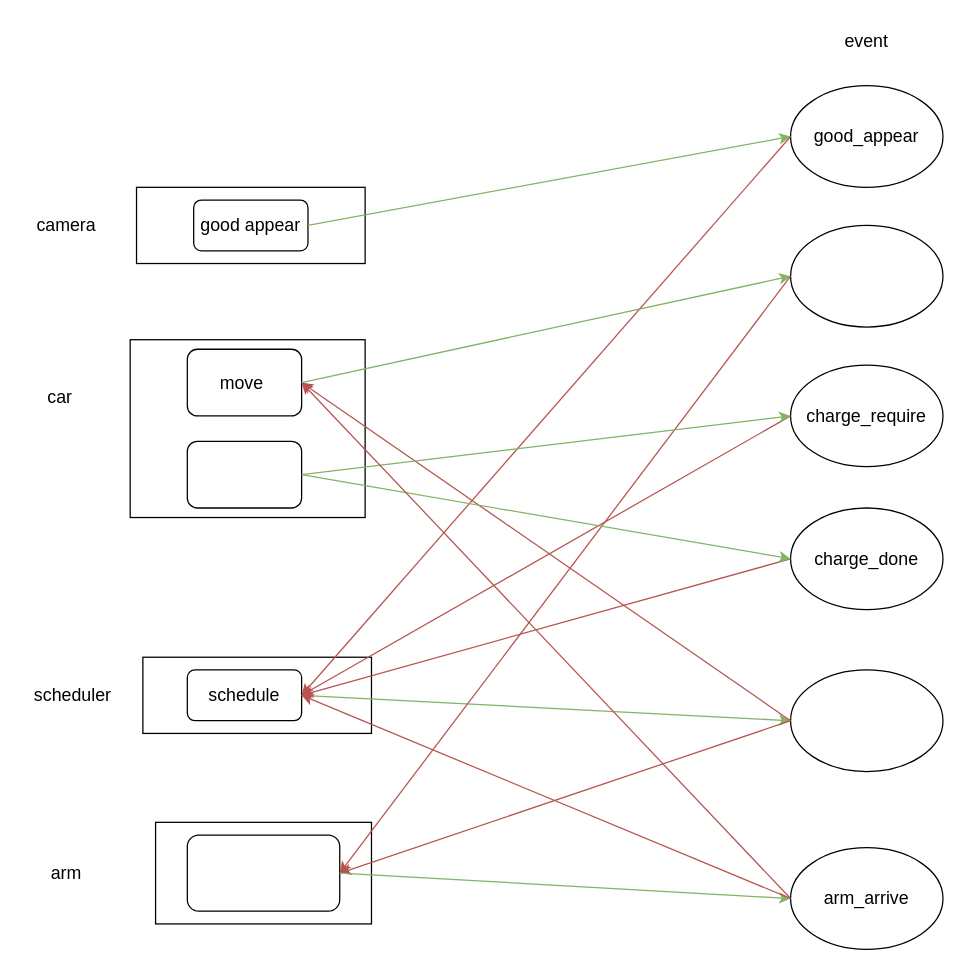
Some shapes in this 965 by 972 pixel diagram are drawn without their labels. Each missing label, with the box of its shape:
car_arrive: (789, 224, 943, 327)
charge: (186, 440, 302, 508)
move to position: (186, 834, 340, 911)
schedule_done: (789, 669, 943, 772)
